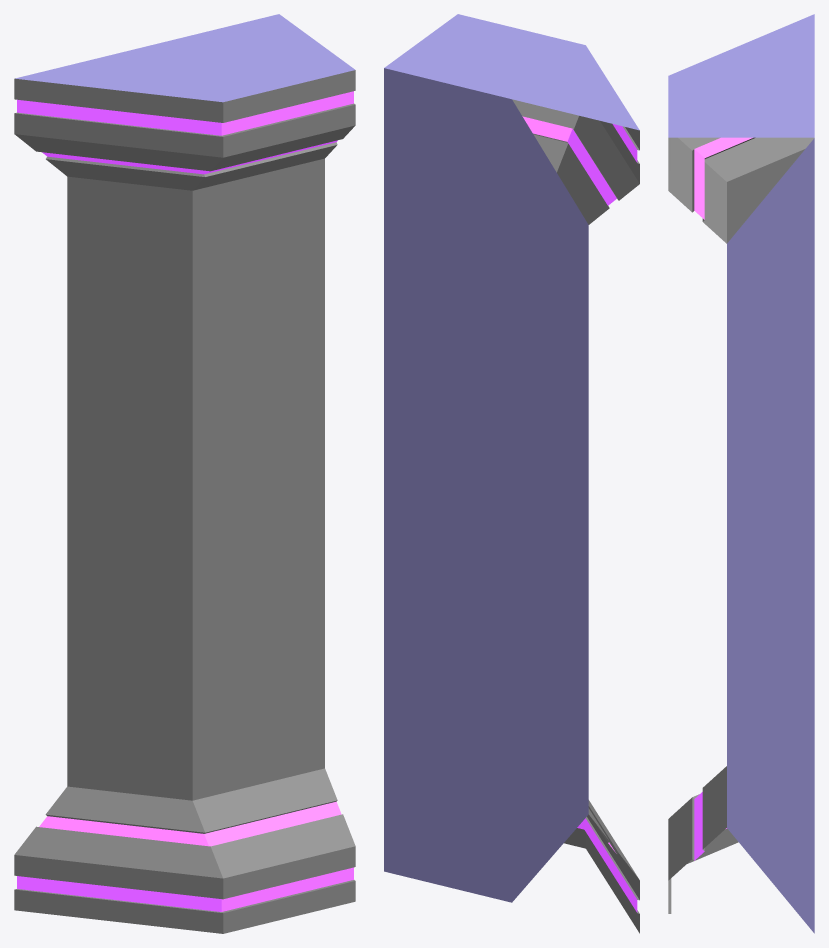
The model's file is WallCornerForGap.FBX.
The picture shows the model from 3 angles, left to right: view 1: azimuth 30°, elevation 25°; view 2: azimuth 150°, elevation 25°; view 3: azimuth 270°, elevation 25°; orthographic projection. The views are drawn at different scales.
Parts seen in each view (by area): view 1: WallCornerForGap; view 2: WallCornerForGap; view 3: WallCornerForGap.
Part boxes in pixels (x1,y1,x2,y2): WallCornerForGap: (14, 14, 355, 933); WallCornerForGap: (384, 14, 639, 933); WallCornerForGap: (668, 14, 814, 933).
Bounding box in the file's own units: 100 × 50 × 300.
